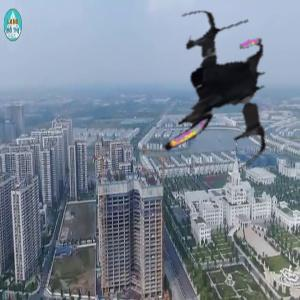drone: (119, 5, 296, 182)
